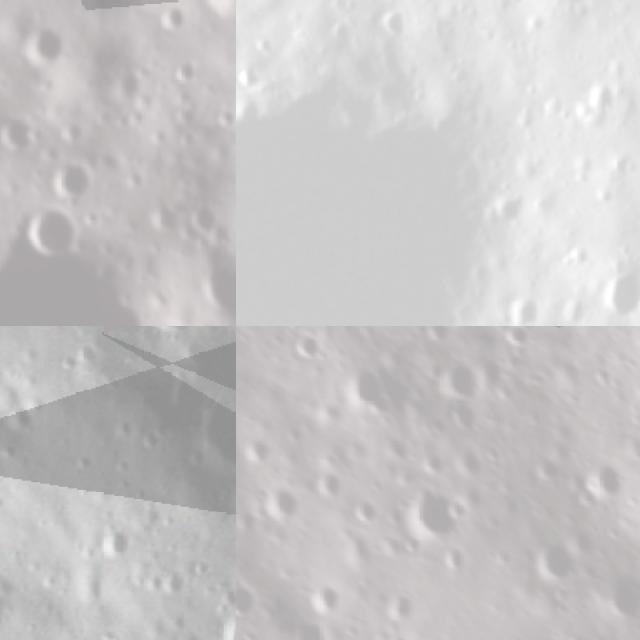crater: (236, 0, 585, 326), (579, 247, 640, 326), (567, 66, 636, 135), (192, 376, 236, 482), (18, 200, 82, 262), (404, 480, 467, 540), (341, 359, 396, 417), (483, 178, 538, 234), (544, 278, 608, 326), (14, 17, 70, 71), (493, 276, 553, 326), (46, 156, 95, 210), (532, 535, 582, 583), (562, 140, 610, 188), (372, 0, 421, 47), (555, 230, 601, 276), (236, 46, 275, 97), (514, 4, 559, 48), (0, 109, 38, 161), (440, 353, 482, 400), (600, 140, 640, 188), (604, 568, 640, 621), (143, 195, 185, 239), (474, 354, 516, 398), (0, 397, 39, 443), (56, 338, 103, 376), (84, 326, 156, 350), (184, 199, 224, 241), (594, 451, 625, 502), (0, 558, 19, 640), (149, 0, 192, 36), (236, 81, 270, 126), (262, 484, 298, 526), (381, 590, 418, 628), (342, 532, 378, 570), (236, 433, 272, 468), (446, 397, 481, 433), (168, 56, 203, 91), (98, 527, 130, 565), (252, 28, 286, 62), (307, 580, 340, 615), (158, 561, 186, 600), (311, 469, 345, 501), (324, 14, 356, 47), (290, 326, 317, 364), (348, 493, 379, 526), (543, 0, 608, 15), (293, 613, 328, 640), (236, 582, 262, 618), (499, 326, 531, 348), (448, 496, 471, 526), (518, 77, 544, 103), (243, 625, 263, 640), (391, 632, 412, 640)
